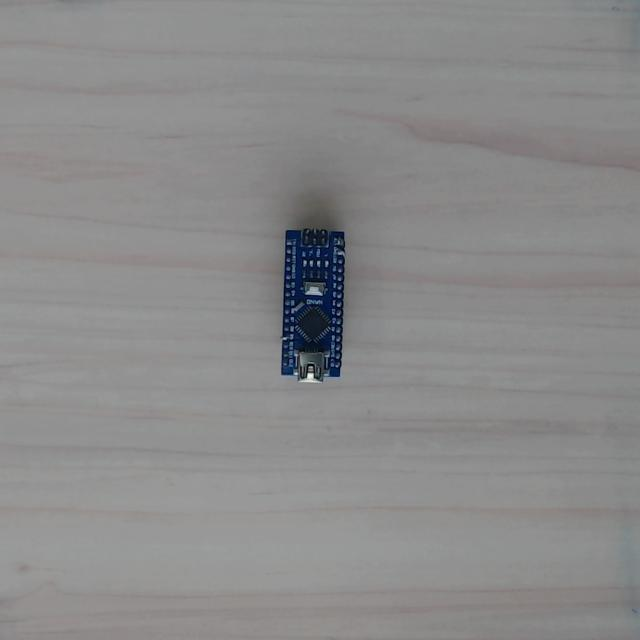Arduino-Nano: (280, 228, 346, 385)
